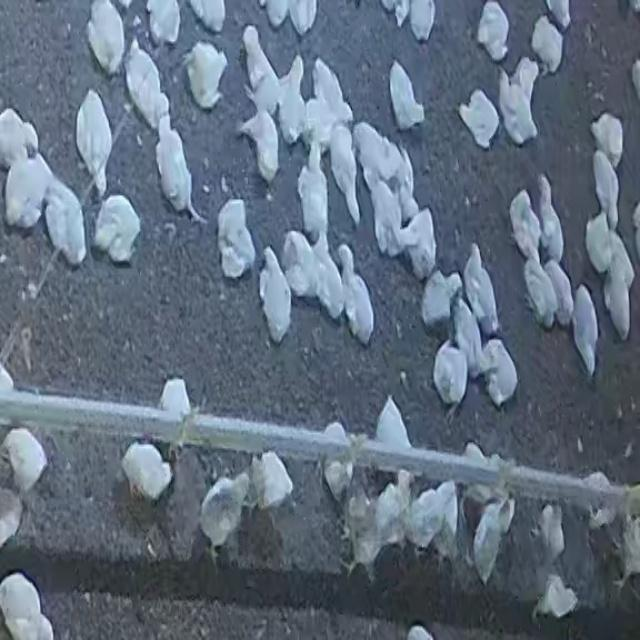chicken: (154, 116, 202, 223), (198, 474, 250, 558), (75, 89, 114, 199), (127, 39, 173, 130), (310, 58, 355, 148), (4, 151, 54, 232), (43, 180, 89, 266), (352, 120, 406, 193), (498, 60, 541, 147), (0, 570, 55, 637), (406, 480, 457, 552), (367, 177, 411, 260), (344, 485, 385, 574), (241, 24, 281, 113), (339, 246, 375, 344), (471, 496, 510, 586), (462, 243, 500, 335), (258, 246, 293, 343), (327, 124, 361, 223), (94, 193, 142, 263), (296, 143, 330, 241), (602, 240, 636, 338), (237, 108, 279, 187), (2, 428, 50, 497), (120, 441, 173, 503), (182, 40, 228, 110), (217, 198, 256, 279), (275, 55, 308, 146), (452, 293, 487, 378), (314, 234, 348, 320), (86, 1, 126, 74), (478, 337, 518, 408), (282, 230, 322, 300), (522, 257, 560, 330), (370, 481, 406, 558), (508, 188, 544, 264), (388, 60, 426, 130), (458, 88, 500, 150), (432, 338, 469, 408), (590, 149, 622, 229), (420, 268, 461, 330), (319, 422, 351, 501), (572, 286, 600, 376), (402, 208, 438, 278), (536, 175, 564, 262), (459, 442, 497, 506), (255, 451, 296, 510), (0, 105, 37, 169), (532, 574, 580, 622), (615, 500, 640, 591), (374, 396, 413, 453), (578, 472, 616, 526), (530, 14, 564, 74), (477, 0, 511, 60), (584, 214, 617, 274), (537, 504, 566, 568), (590, 112, 624, 166), (157, 377, 193, 424), (145, 1, 182, 46), (0, 486, 23, 554), (512, 56, 540, 101), (234, 464, 261, 509), (496, 495, 516, 543), (0, 356, 15, 396)
